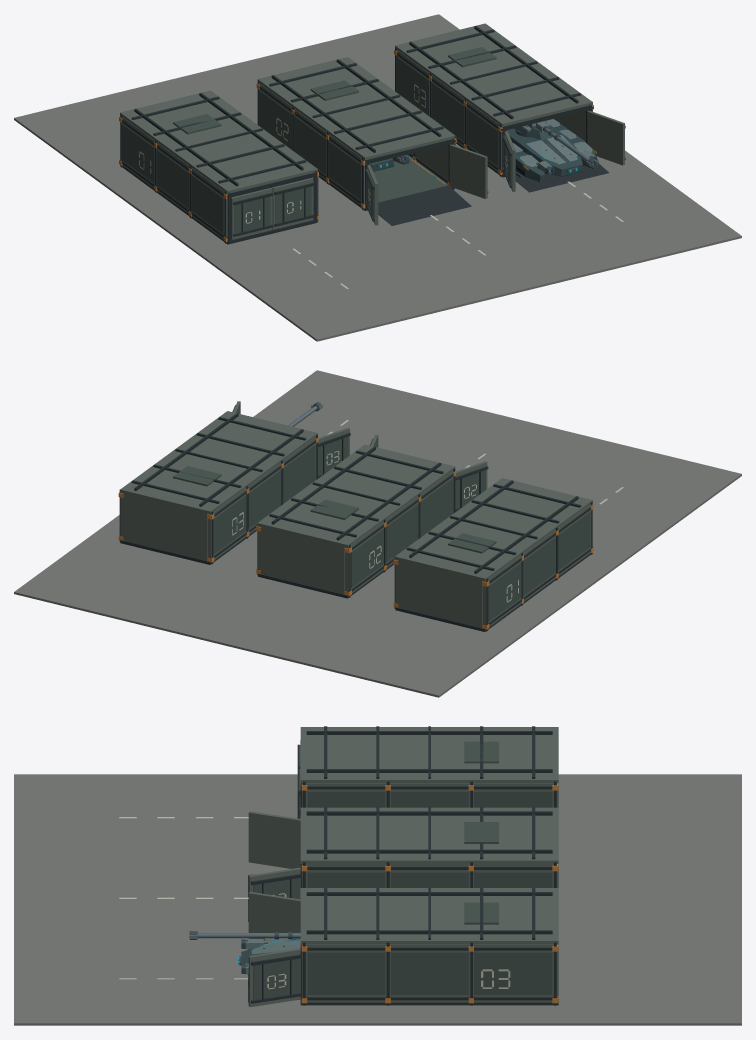
Rendered from mork_container_low_diorama.glb.
3 renders of one model, top to bottom at view 1: azimuth 30°, elevation 25°; view 2: azimuth 150°, elevation 25°; view 3: azimuth 270°, elevation 25°, orthographic. The views are drawn at different scales.
Parts seen in each view (by area): view 1: object 16, Geometry_ROOF_02.001_Container game / vertex palette, Geometry_ROOF_01.001_Container game / vertex palette, Geometry_ROOF_03_Container game / vertex palette, Geometry_SHELL_02.001_Container game / vertex palette, Geometry_SHELL_01.001_Container game / vertex palette, Geometry_SHELL_03_Container game / vertex palette, Geometry_VEHICLE_03_Container game / vertex palette, Geometry_RAMP_02.001_Container game / vertex palette, Geometry_DOOR_01_L.001_Container game / vertex palette, Geometry_DOOR_01_R.001_Container game / vertex palette, Geometry_DOOR_02_R.001_Container game / vertex palette (+4 smaller); view 2: object 16, Geometry_SHELL_01.001_Container game / vertex palette, Geometry_ROOF_01.001_Container game / vertex palette, Geometry_ROOF_02.001_Container game / vertex palette, Geometry_ROOF_03_Container game / vertex palette, Geometry_SHELL_03_Container game / vertex palette, Geometry_SHELL_02.001_Container game / vertex palette, Geometry_DOOR_02_L.001_Container game / vertex palette, Geometry_DOOR_03_L_Container game / vertex palette; view 3: object 16, Geometry_SHELL_03_Container game / vertex palette, Geometry_ROOF_03_Container game / vertex palette, Geometry_ROOF_01.001_Container game / vertex palette, Geometry_ROOF_02.001_Container game / vertex palette, Geometry_SHELL_01.001_Container game / vertex palette, Geometry_SHELL_02.001_Container game / vertex palette, Geometry_DOOR_03_R_Container game / vertex palette, Geometry_DOOR_02_L.001_Container game / vertex palette, Geometry_DOOR_03_L_Container game / vertex palette, Geometry_VEHICLE_03_Container game / vertex palette, Geometry_DOOR_02_R.001_Container game / vertex palette.
Part boxes in pixels (x1,y1,x2,y2): object 16: (14,14,741,341); Geometry_ROOF_02.001_Container game / vertex palette: (257,57,455,160); Geometry_ROOF_01.001_Container game / vertex palette: (120,90,317,193); Geometry_ROOF_03_Container game / vertex palette: (395,23,592,126); Geometry_SHELL_02.001_Container game / vertex palette: (256,81,456,210); Geometry_SHELL_01.001_Container game / vertex palette: (119,114,318,244); Geometry_SHELL_03_Container game / vertex palette: (394,47,593,177); Geometry_VEHICLE_03_Container game / vertex palette: (507,119,599,182); Geometry_RAMP_02.001_Container game / vertex palette: (378,186,471,225); Geometry_DOOR_01_L.001_Container game / vertex palette: (231,188,272,239); Geometry_DOOR_01_R.001_Container game / vertex palette: (272,178,314,229); Geometry_DOOR_02_R.001_Container game / vertex palette: (449,144,488,198); object 16: (14,370,741,697); Geometry_SHELL_01.001_Container game / vertex palette: (393,502,593,631); Geometry_ROOF_01.001_Container game / vertex palette: (395,478,592,581); Geometry_ROOF_02.001_Container game / vertex palette: (257,444,455,547); Geometry_ROOF_03_Container game / vertex palette: (120,411,317,514); Geometry_SHELL_03_Container game / vertex palette: (118,435,318,564); Geometry_SHELL_02.001_Container game / vertex palette: (256,468,455,598); Geometry_DOOR_02_L.001_Container game / vertex palette: (455,461,488,511); Geometry_DOOR_03_L_Container game / vertex palette: (318,427,350,478); object 16: (14,774,741,1025); Geometry_SHELL_03_Container game / vertex palette: (300,942,558,1005); Geometry_ROOF_03_Container game / vertex palette: (300,887,558,944); Geometry_ROOF_01.001_Container game / vertex palette: (300,726,558,783); Geometry_ROOF_02.001_Container game / vertex palette: (300,806,558,863); Geometry_SHELL_01.001_Container game / vertex palette: (300,781,558,807); Geometry_SHELL_02.001_Container game / vertex palette: (300,862,558,887); Geometry_DOOR_03_R_Container game / vertex palette: (248,948,302,1007); Geometry_DOOR_02_L.001_Container game / vertex palette: (248,811,300,868); Geometry_DOOR_03_L_Container game / vertex palette: (248,891,300,940); Geometry_VEHICLE_03_Container game / vertex palette: (189,931,300,987); Geometry_DOOR_02_R.001_Container game / vertex palette: (248,867,302,899).
Bounding box in the file's own units: 34.01 × 4.47 × 42.01.
